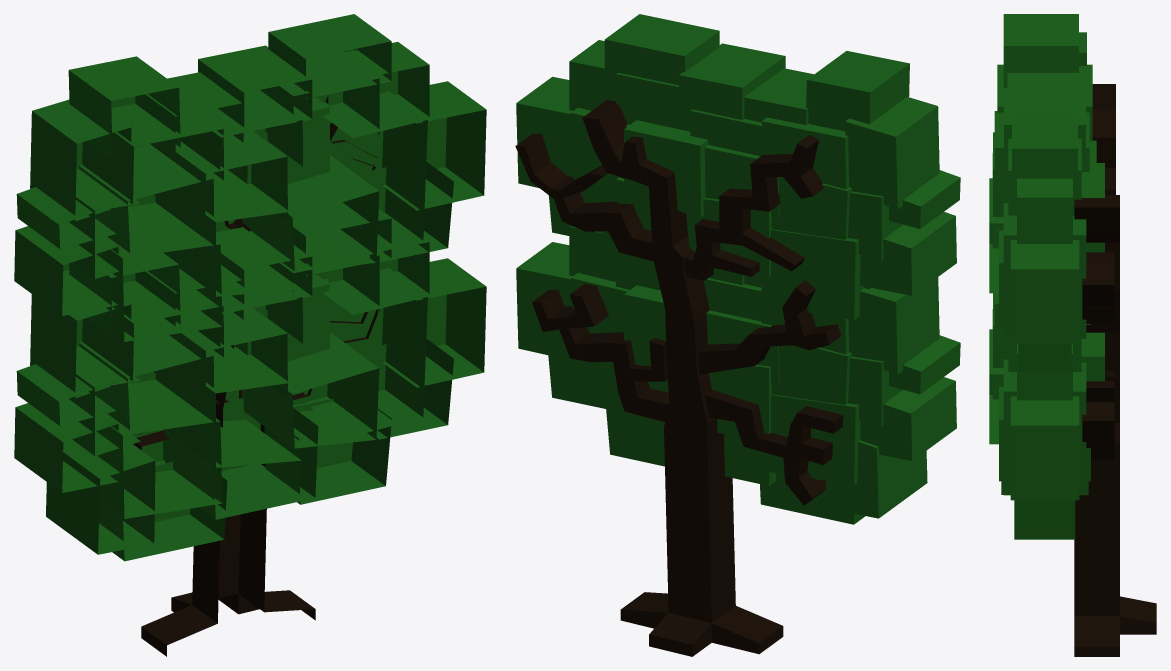
File: Tree_002.FBX
The picture shows the model from 3 angles, left to right: view 1: azimuth 30°, elevation 25°; view 2: azimuth 150°, elevation 25°; view 3: azimuth 270°, elevation 25°; orthographic projection. The views are drawn at different scales.
Visible parts, largest first — view 1: Tree002; view 2: Tree002; view 3: Tree002.
Boxes of the visible parts, <box> form: Tree002: <box>14,14,486,656</box>; Tree002: <box>515,14,960,656</box>; Tree002: <box>989,14,1156,656</box>.
Size of the model in its own units: 671 by 902 by 255.
